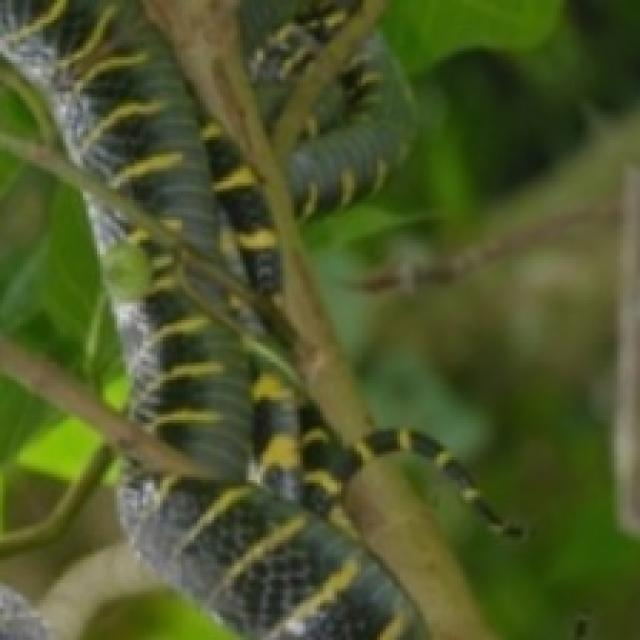mangrove cat snake: (0, 0, 412, 640), (288, 29, 410, 223), (368, 430, 530, 549), (246, 0, 359, 126)
